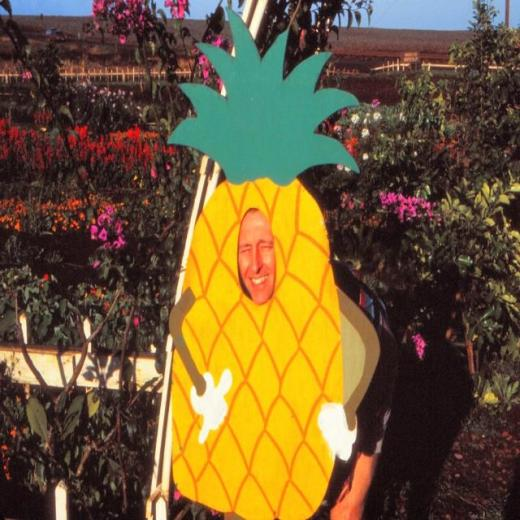Mango: (171, 3, 361, 520)
